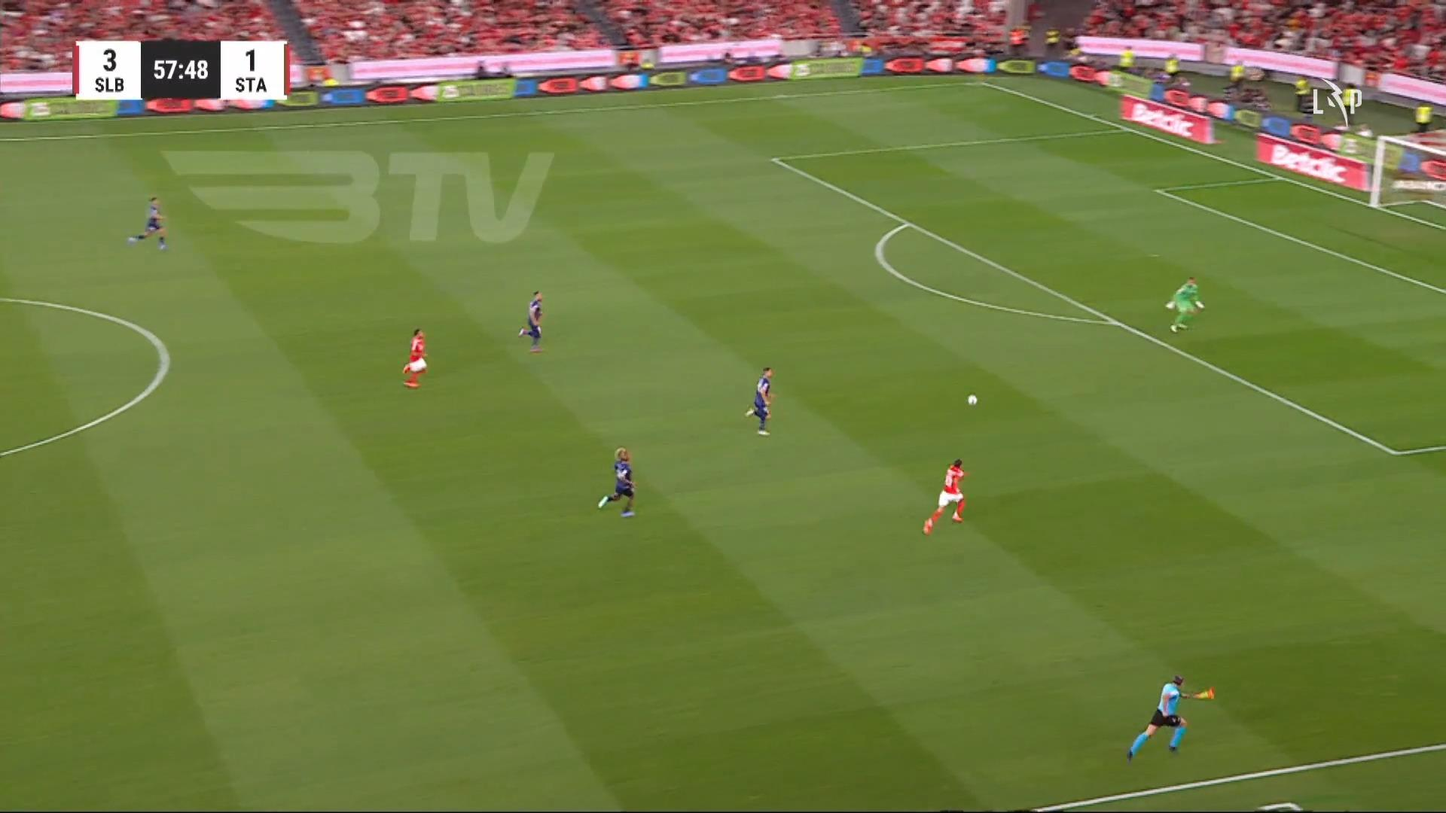ball: (966, 393, 978, 406)
goalkeeper: (1164, 276, 1205, 333)
player: (922, 458, 967, 535), (596, 446, 637, 517), (127, 194, 169, 251), (745, 366, 776, 435), (401, 327, 428, 388), (520, 290, 545, 353)
referee: (1125, 674, 1215, 763)
